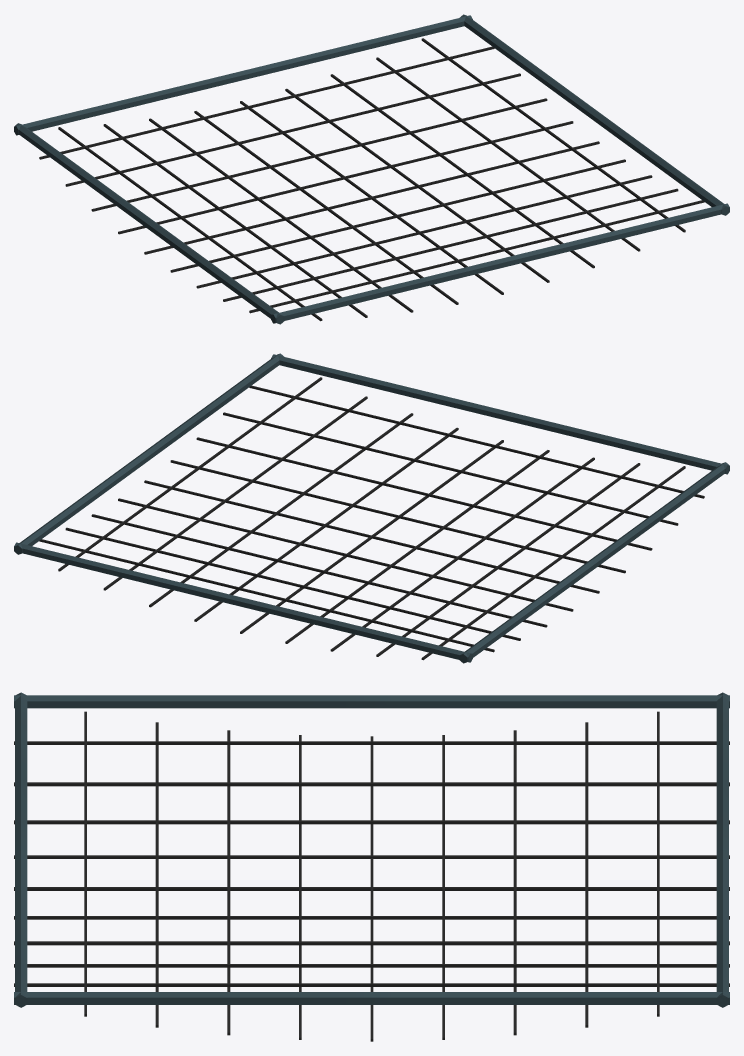
File: netting_gallery.fbx
3 renders of one model, top to bottom at view 1: azimuth 30°, elevation 25°; view 2: azimuth 150°, elevation 25°; view 3: azimuth 270°, elevation 25°, orthographic. The views are drawn at different scales.
Visible parts, largest first — view 1: netting_gallery; view 2: netting_gallery; view 3: netting_gallery.
Part boxes in pixels (bbox=[...]): netting_gallery: bbox=[14, 14, 729, 324]; netting_gallery: bbox=[14, 353, 729, 663]; netting_gallery: bbox=[14, 692, 729, 1041].
Bounding box in the file's own units: 2 × 0.144 × 2.
1 material, 1 textured.
